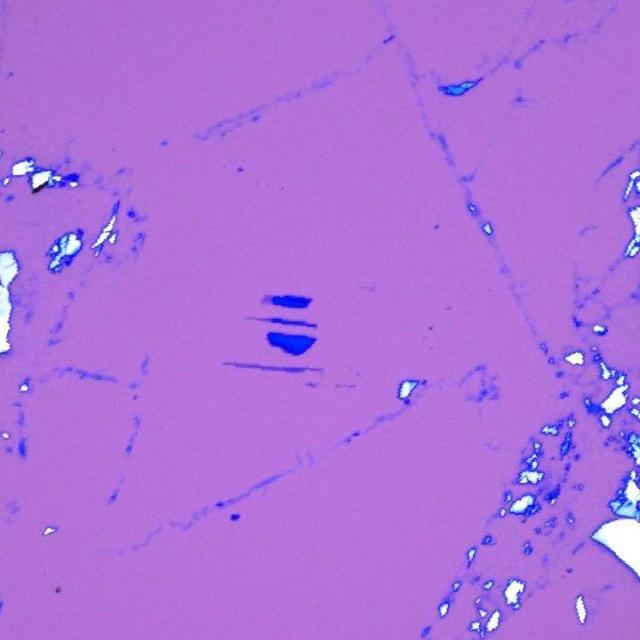monolayer-eWW4: (260, 293, 273, 305)
